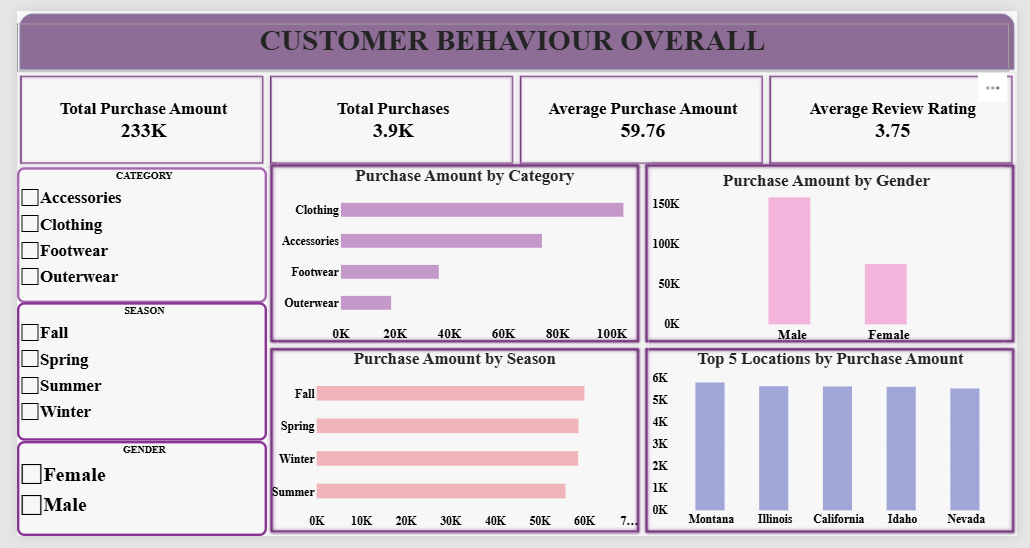

The dashboard page shown, as its layout file describes it:
{"tool":"powerbi","page":{"name":"Customer Overall","canvas":[4000,2100],"ordinal":0},"visuals":[{"type":"cardVisual","fields":{"Data":["customer_shopping.Total Purchase Amount","customer_shopping.Total Purchases","customer_shopping.Average Purchase Amount","customer_shopping.Average Review Rating"]},"box":[0,245,4000,380],"z":0},{"type":"shape","box":[0,0,4000,245],"z":1000},{"type":"textbox","box":[0,50,3965,195],"z":2000},{"type":"shape","box":[1000,600,1500,736.7],"z":3000},{"type":"clusteredBarChart","title":"Purchase Amount by Category","fields":{"Y":["customer_shopping.Total Purchase Amount"],"Category":["customer_shopping.Category"]},"box":[1040,605,1500,730],"z":4000},{"type":"shape","box":[1000,1335,1500,763.3],"z":5000},{"type":"shape","box":[2500,1335,1500,763.3],"z":6000},{"type":"clusteredBarChart","title":"Purchase Amount by Season","fields":{"Y":["customer_shopping.Total Purchase Amount"],"Category":["customer_shopping.Season"]},"box":[1000,1335,1500,750],"z":7000},{"type":"columnChart","title":"Top 5 Locations by Purchase Amount","fields":{"Y":["customer_shopping.Total Purchase Amount"],"Category":["customer_shopping.Location"]},"box":[2525,1335,1455,740],"z":8000},{"type":"shape","box":[2500,600,1500,736.7],"z":9000},{"type":"columnChart","title":"Purchase Amount by Gender","fields":{"Category":["customer_shopping.Gender"],"Y":["customer_shopping.Total Purchase Amount"]},"box":[2527.3,622.7,1423.3,713.3],"z":10000},{"type":"slicer","title":"CATEGORY","fields":{"Values":["customer_shopping.Category"]},"box":[0,623.3,1000,543.3],"z":11000},{"type":"slicer","title":"SEASON","fields":{"Values":["customer_shopping.Season"]},"box":[0,1166.7,1000,553.3],"z":12000},{"type":"slicer","title":"GENDER","fields":{"Values":["customer_shopping.Gender"]},"box":[0,1720,1000,380],"z":13000}]}

Visuals, with their boxes in screenshot pixels (x1, y1, x2, y2), scaled from the page's 4000x2100 canvas onto the 1030x548 screenshot:
cardVisual - customer_shopping.Total Purchase Amount x customer_shopping.Total Purchases: bbox=[0, 64, 1029, 163]
shape: bbox=[0, 0, 1029, 64]
textbox: bbox=[0, 13, 1021, 64]
shape: bbox=[258, 157, 644, 349]
"Purchase Amount by Category" clusteredBarChart: bbox=[268, 158, 654, 348]
shape: bbox=[258, 348, 644, 547]
shape: bbox=[644, 348, 1029, 547]
"Purchase Amount by Season" clusteredBarChart: bbox=[258, 348, 644, 544]
"Top 5 Locations by Purchase Amount" columnChart: bbox=[650, 348, 1025, 541]
shape: bbox=[644, 157, 1029, 349]
"Purchase Amount by Gender" columnChart: bbox=[651, 162, 1017, 349]
"CATEGORY" slicer: bbox=[0, 163, 258, 304]
"SEASON" slicer: bbox=[0, 304, 258, 449]
"GENDER" slicer: bbox=[0, 449, 258, 547]
